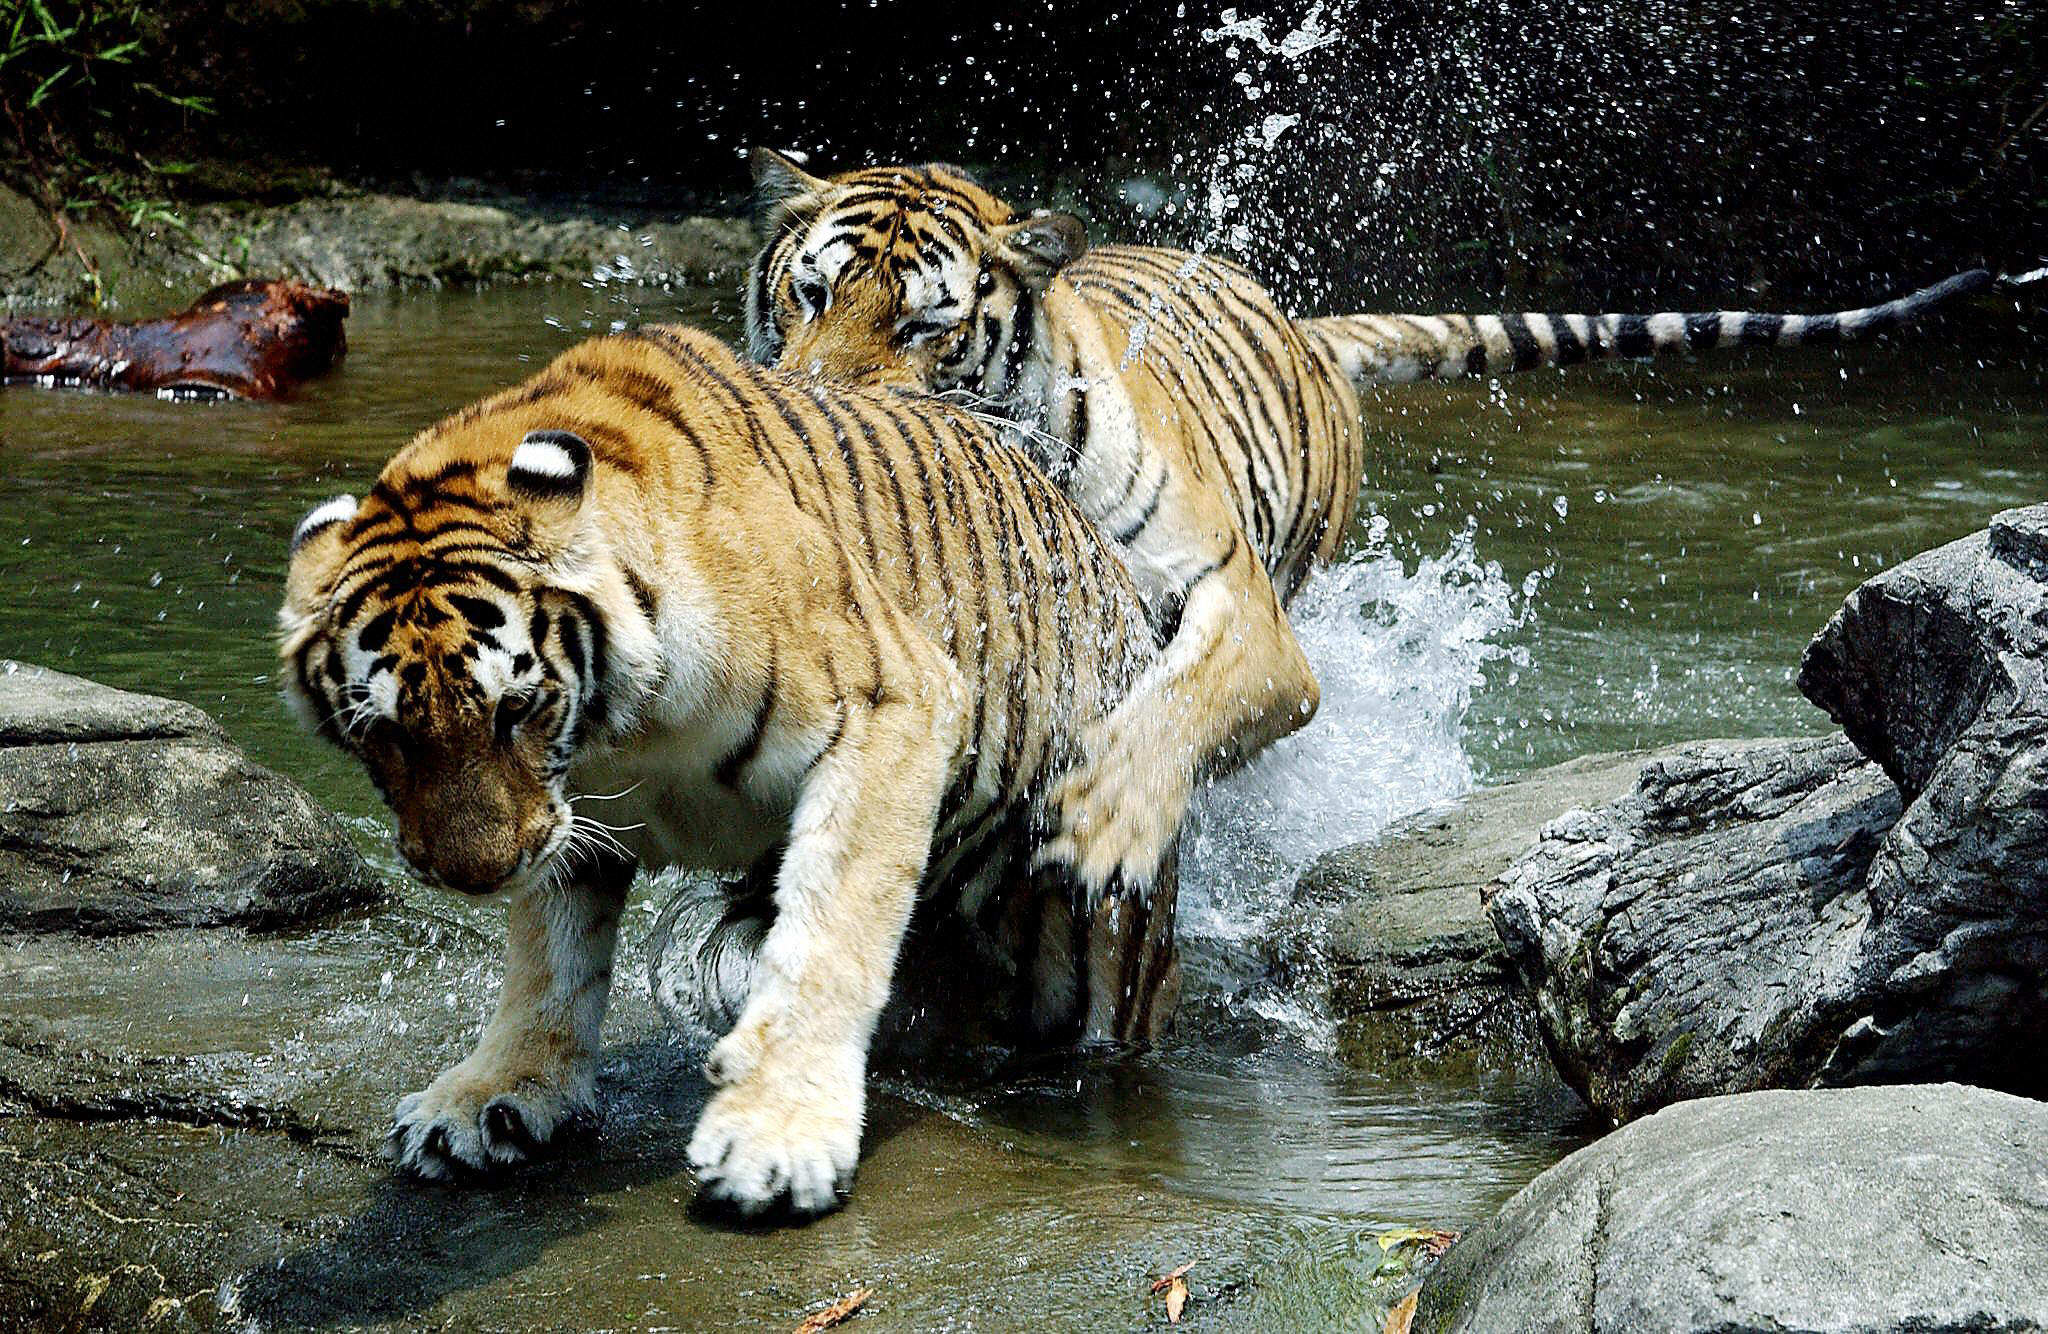cat: (664, 100, 2048, 940), (237, 286, 1233, 1258)
